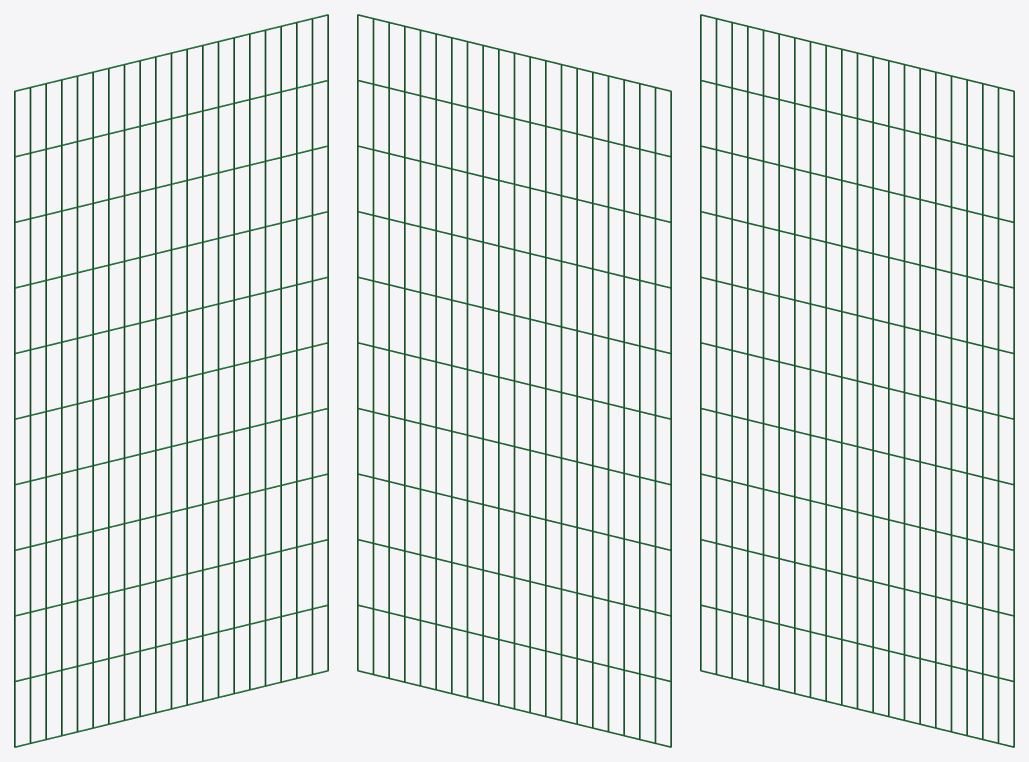
File: boundary.mesh.h2000.glb
3 views of the same model, side by side, from view 1: azimuth 30°, elevation 25°; view 2: azimuth 150°, elevation 25°; view 3: azimuth 330°, elevation 25° (orthographic).
Parts seen in each view (by area): view 1: main__plastic_green; view 2: main__plastic_green; view 3: main__plastic_green.
Boxes of the visible parts, x1,y1,x2,y2 form: main__plastic_green: (14, 14, 328, 747); main__plastic_green: (357, 14, 671, 747); main__plastic_green: (700, 14, 1014, 747).
Size of the model in its own units: 1 by 2.01 by 0.005.
